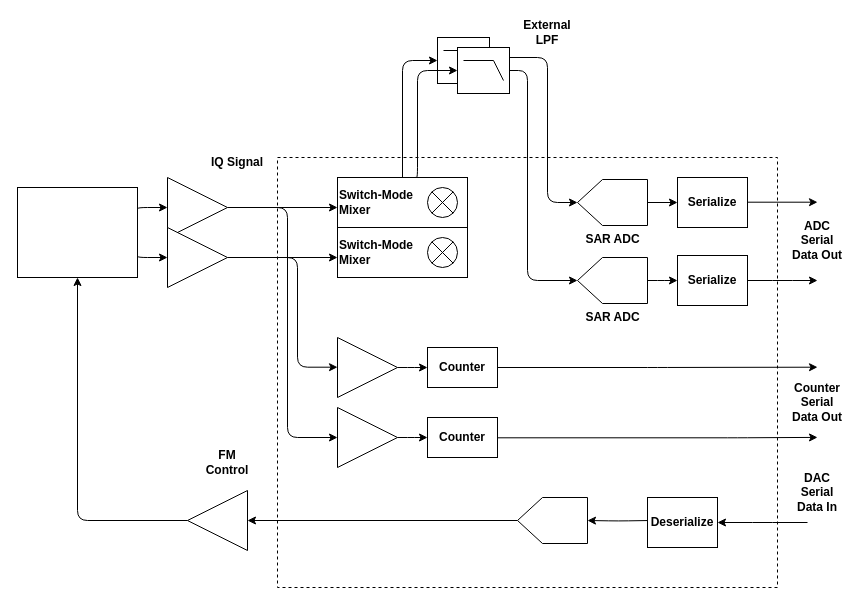
Image size: 865x605. Some labels were removed from this diagram. The shapes that lost their labels are listed below. From the top down, each one's centre as x and y in pixels, then its label:
point (77, 232): Radar Module With RF Mixers (24GHz)
point (552, 520): Current Summing DAC
